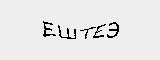Е: (39, 20, 55, 41), (90, 22, 106, 41)
Т: (78, 24, 95, 39)
Ш: (56, 24, 76, 42)
Э: (105, 18, 121, 41)
